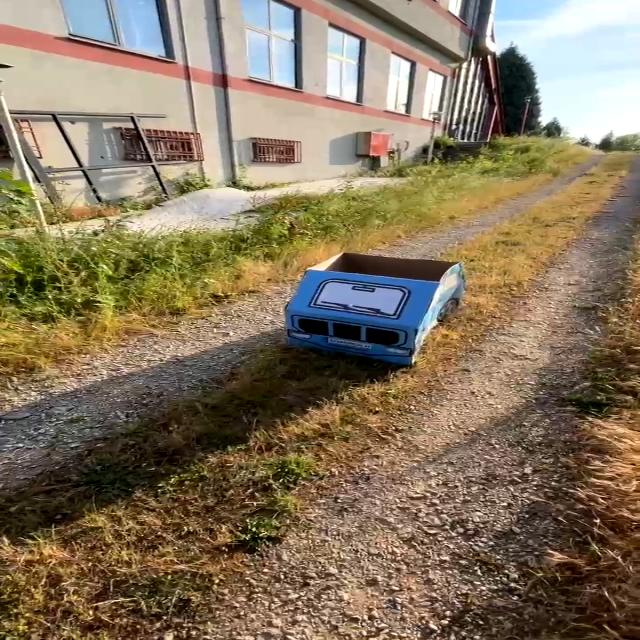blue_car: (263, 235, 492, 391)
